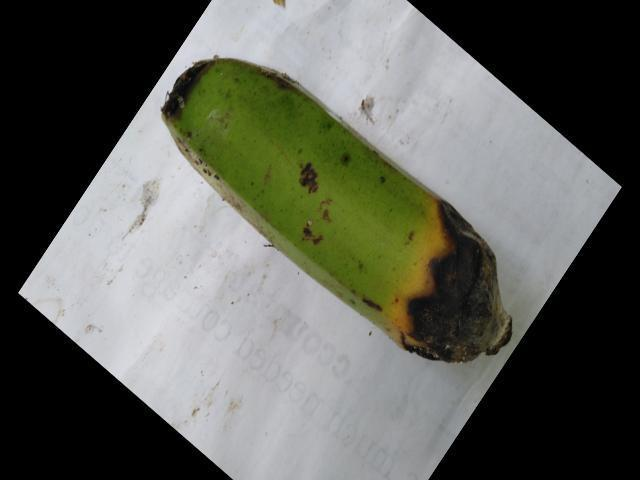rotten: (355, 194, 535, 390)
unripe: (147, 52, 421, 333)
